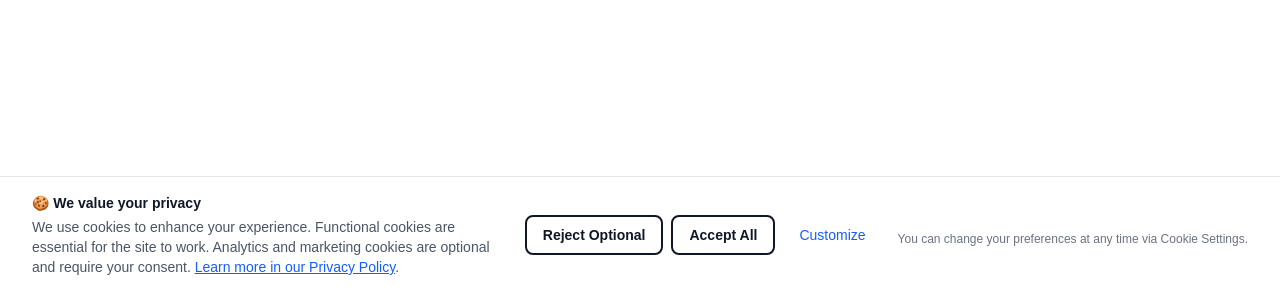
Test: CookieConsentBanner › details view › should show customization options when "Customize" clicked
Step 1. Click the button "Customize" → click(832, 235), box [783,215,882,255]
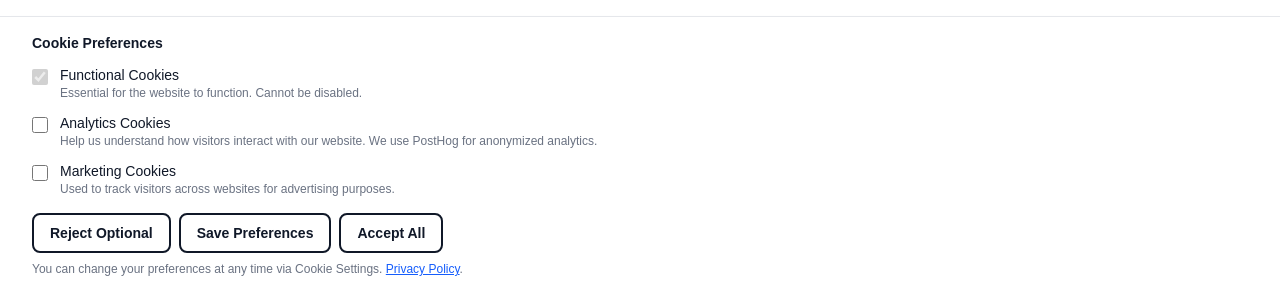
Expected: the text "Functional Cookies" is shown, [60,67,179,83]
Expected: the heading "Cookie Preferences" is shown, [32,35,163,51]
Expected: the text "Analytics Cookies" is shown, [60,115,170,131]
